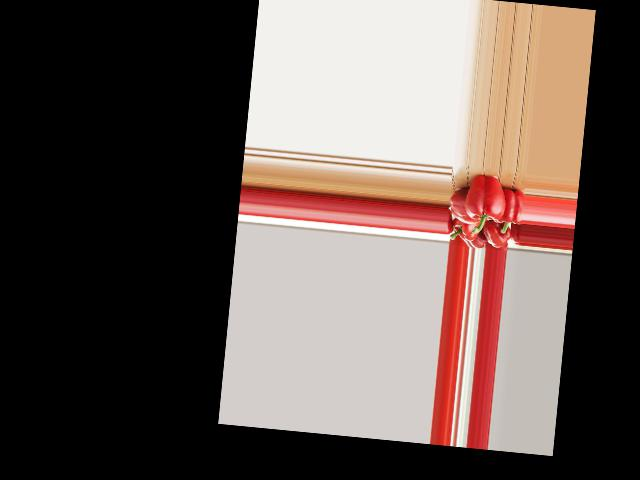bell_pepper: (448, 216, 479, 242)
